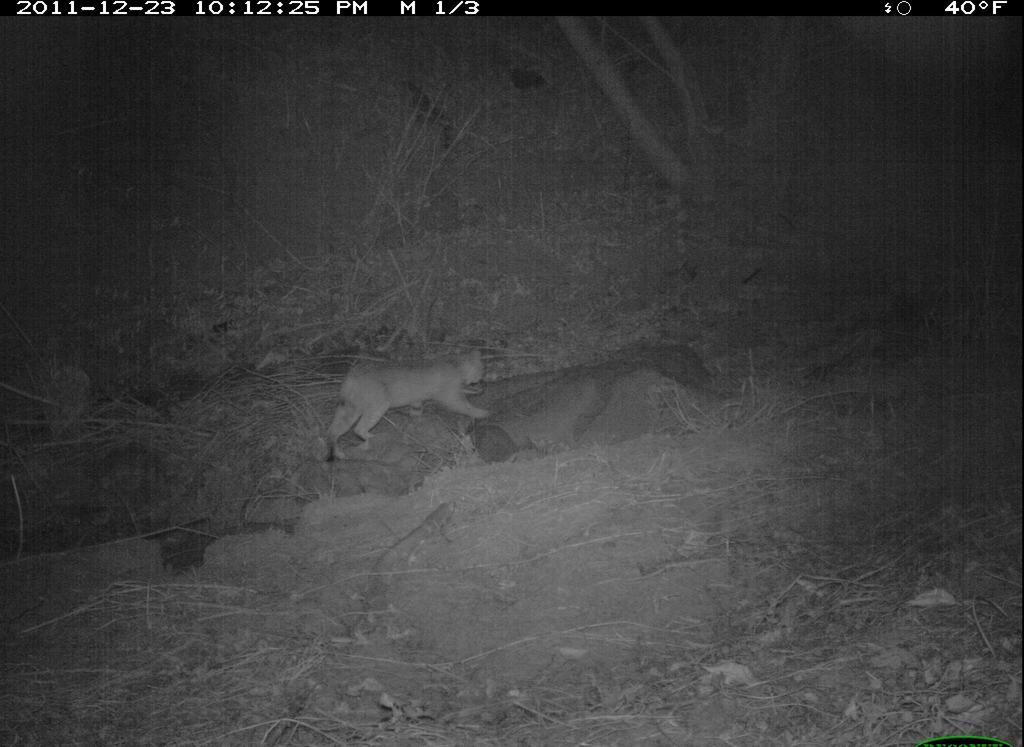bobcat: (317, 338, 502, 473)
